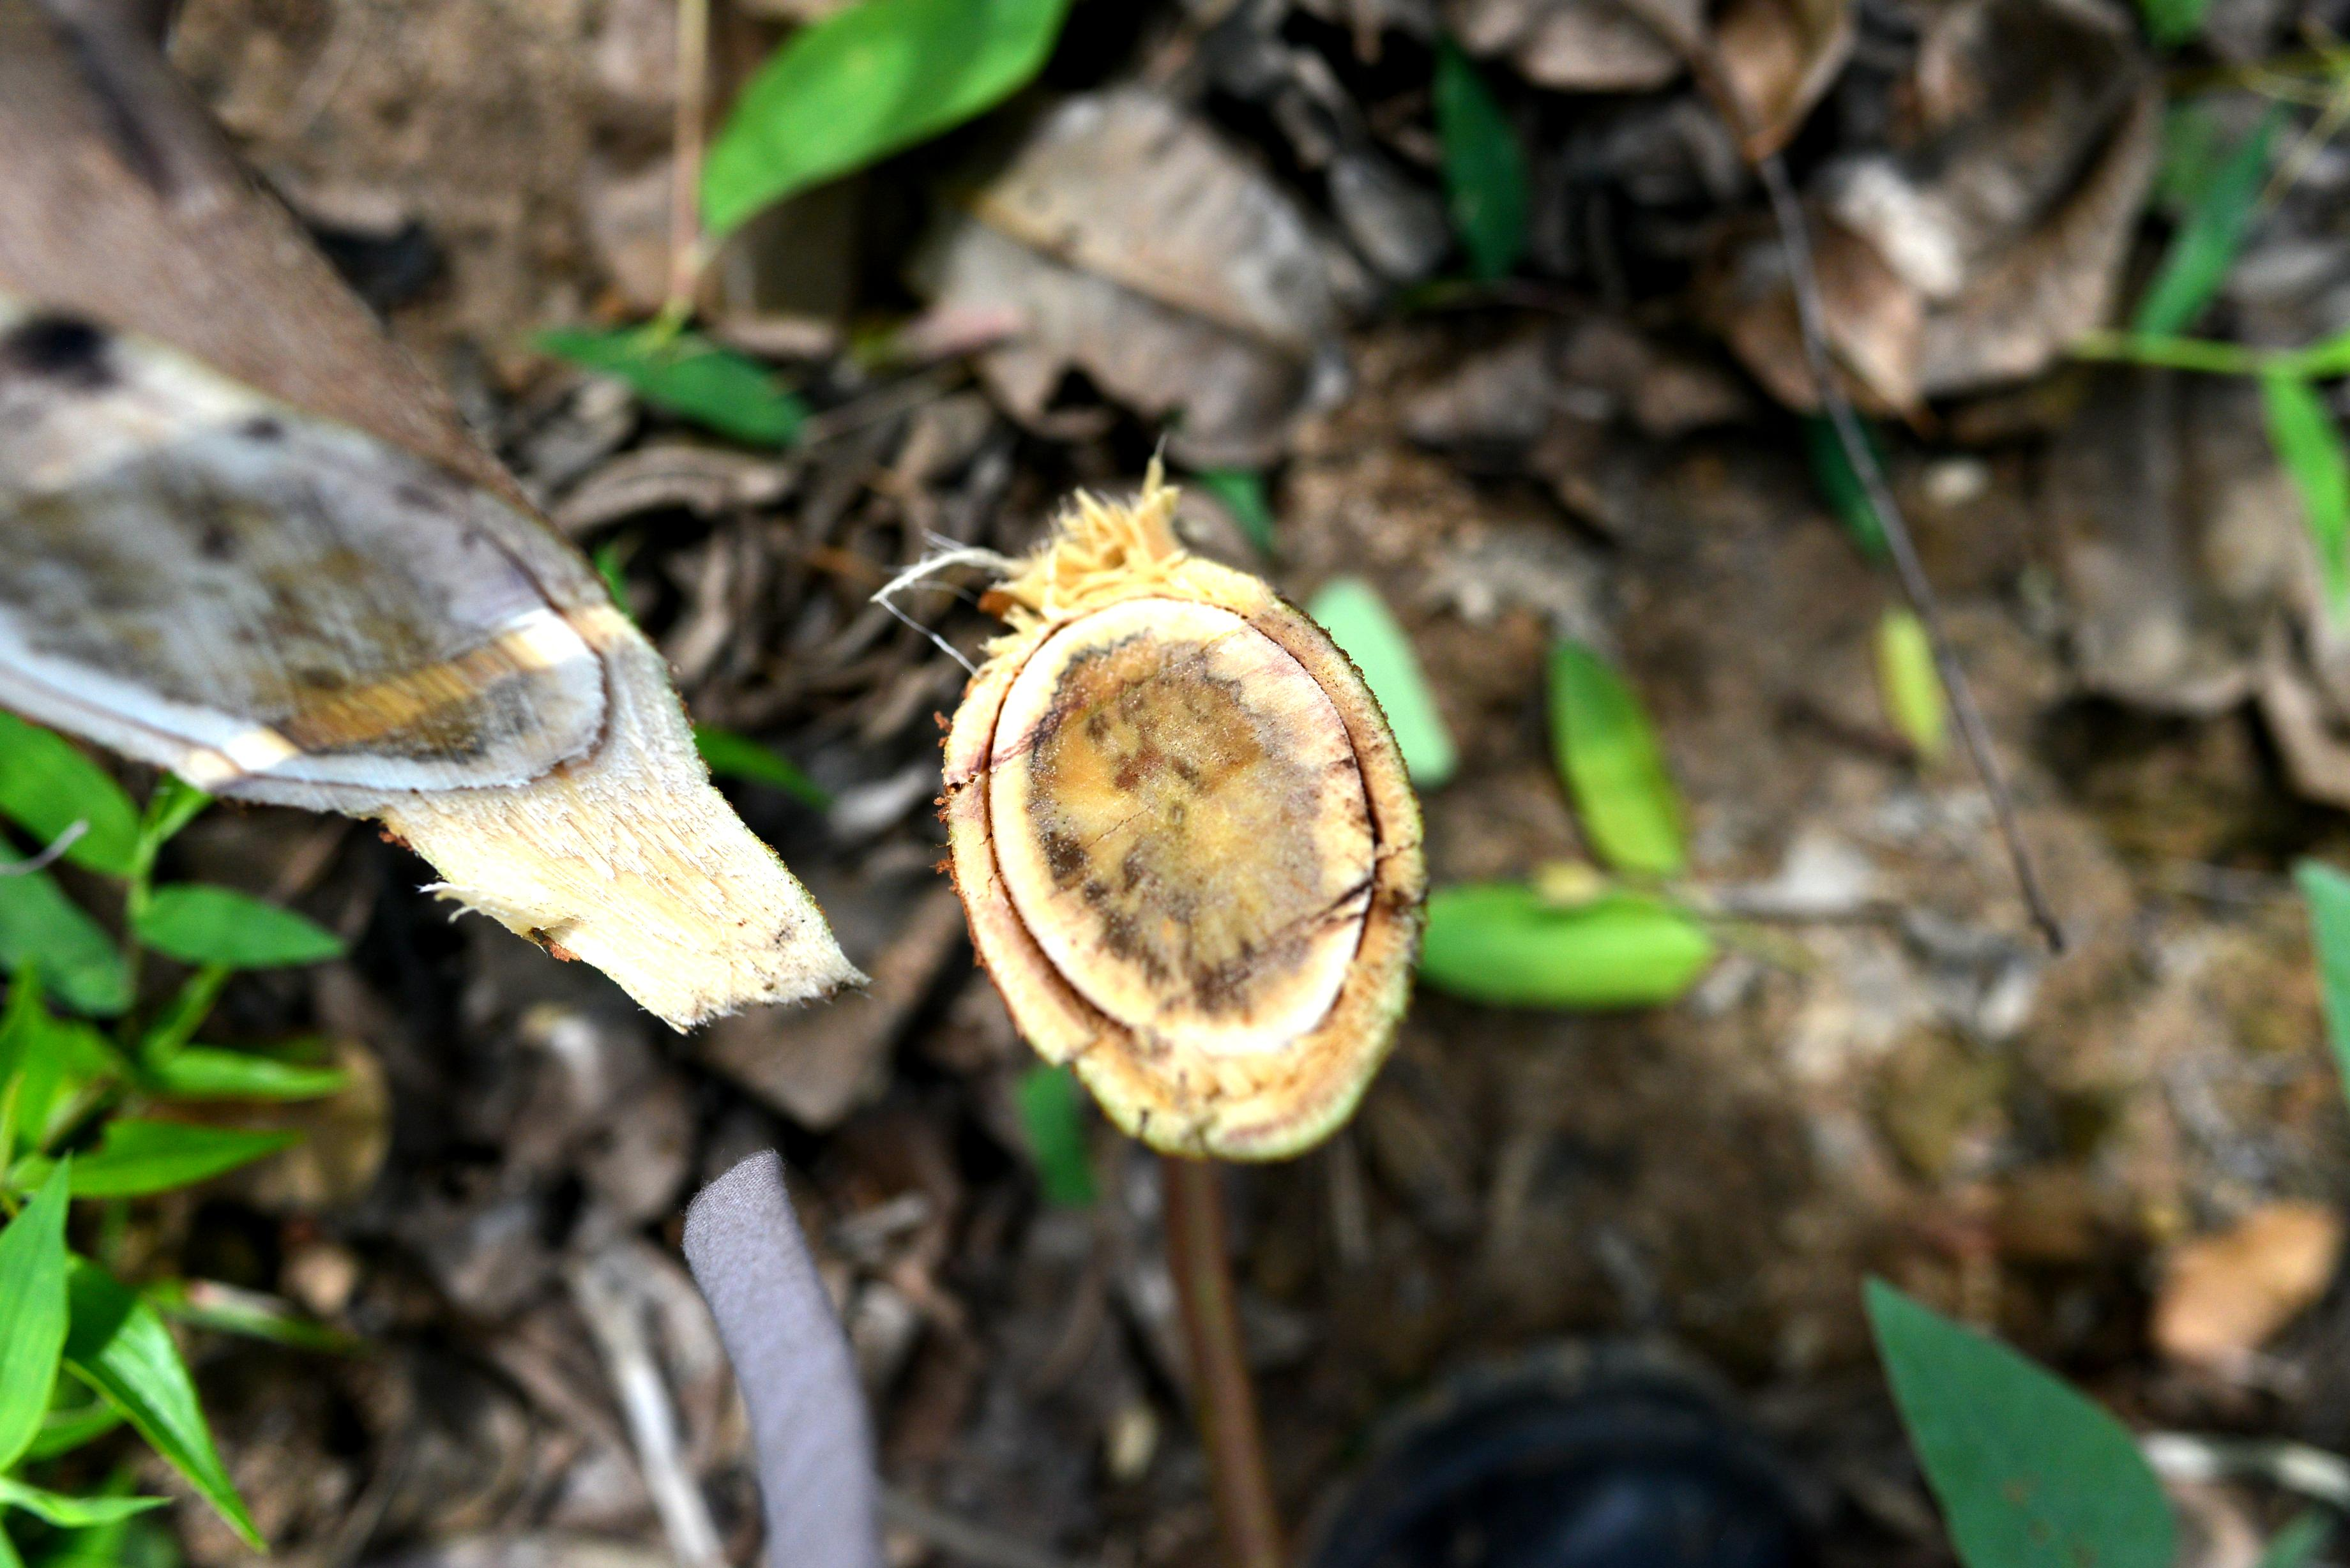Ralstonia: (1241, 702, 1326, 938), (1013, 695, 1088, 884), (1108, 703, 1211, 814), (1115, 845, 1223, 940), (1066, 632, 1207, 688)
